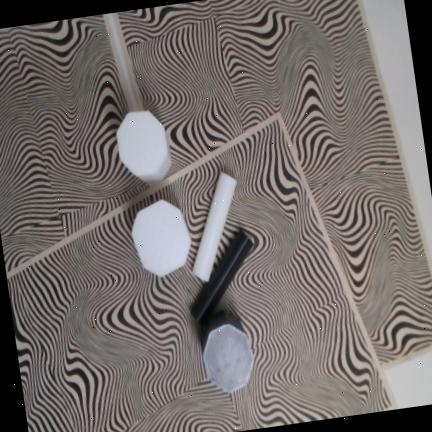Cilindro: (190, 228, 254, 324), (191, 170, 237, 282)
Prisma_hexagonal: (131, 198, 192, 276), (200, 311, 254, 392), (116, 109, 172, 182)
